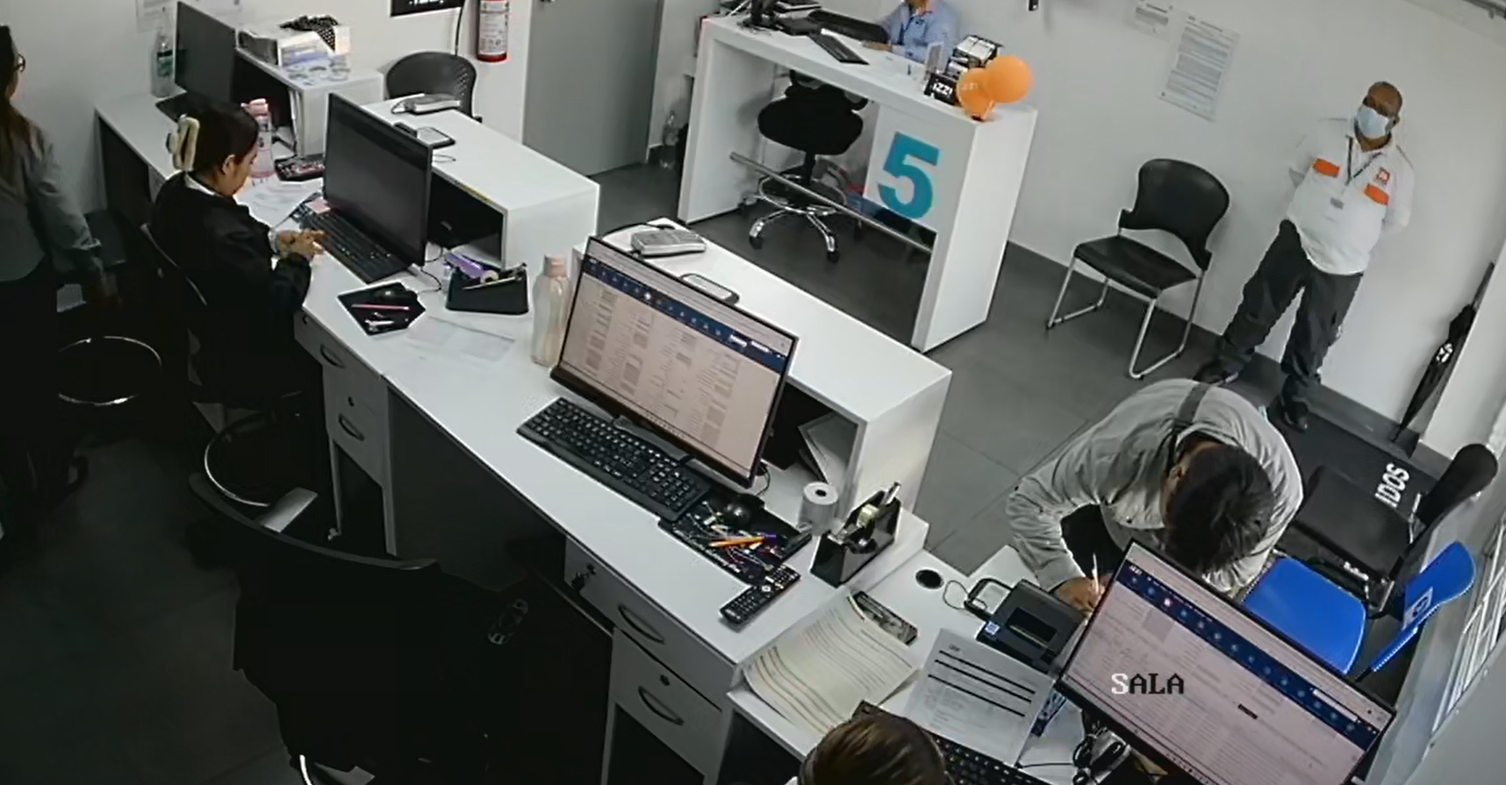llaves: (443, 507, 722, 771)
